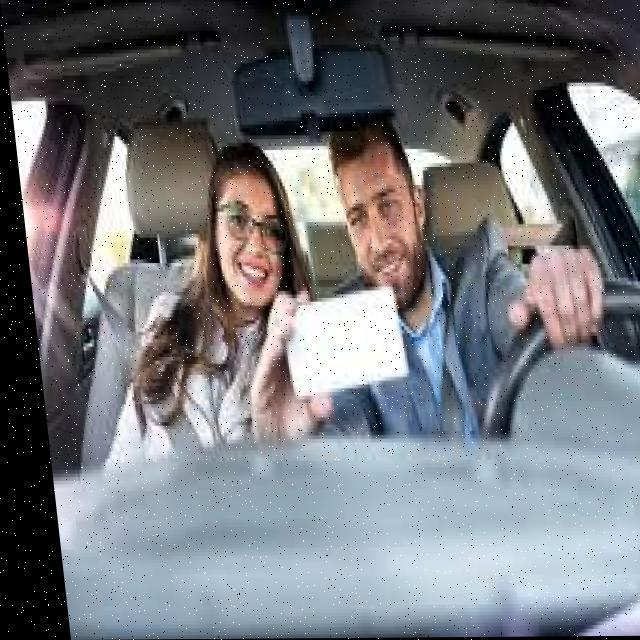seatbelt: (87, 277, 277, 469), (379, 272, 514, 454)
